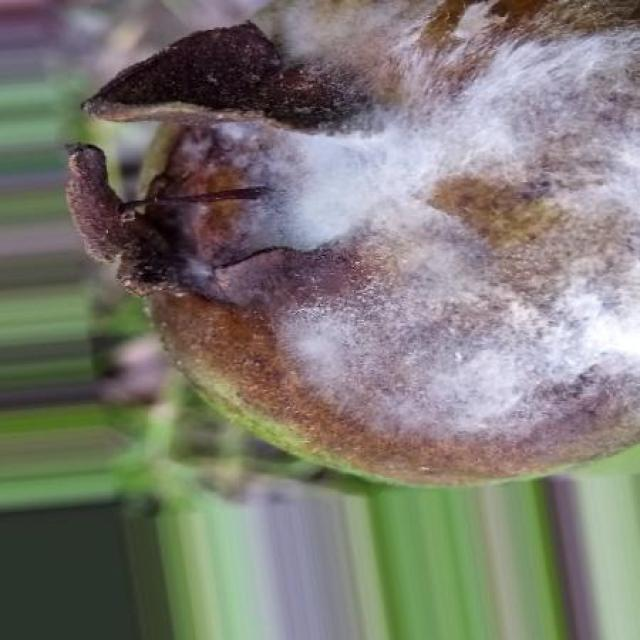Phytopthora: (66, 1, 640, 482)
